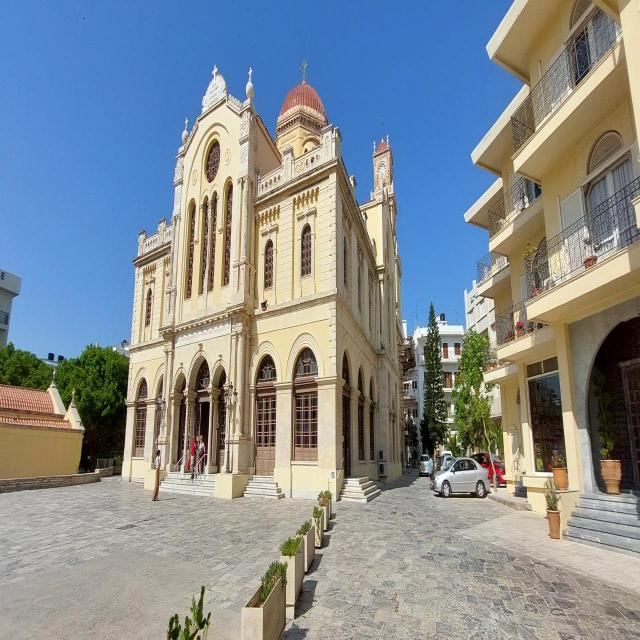Agios Minas: (122, 57, 411, 503)
